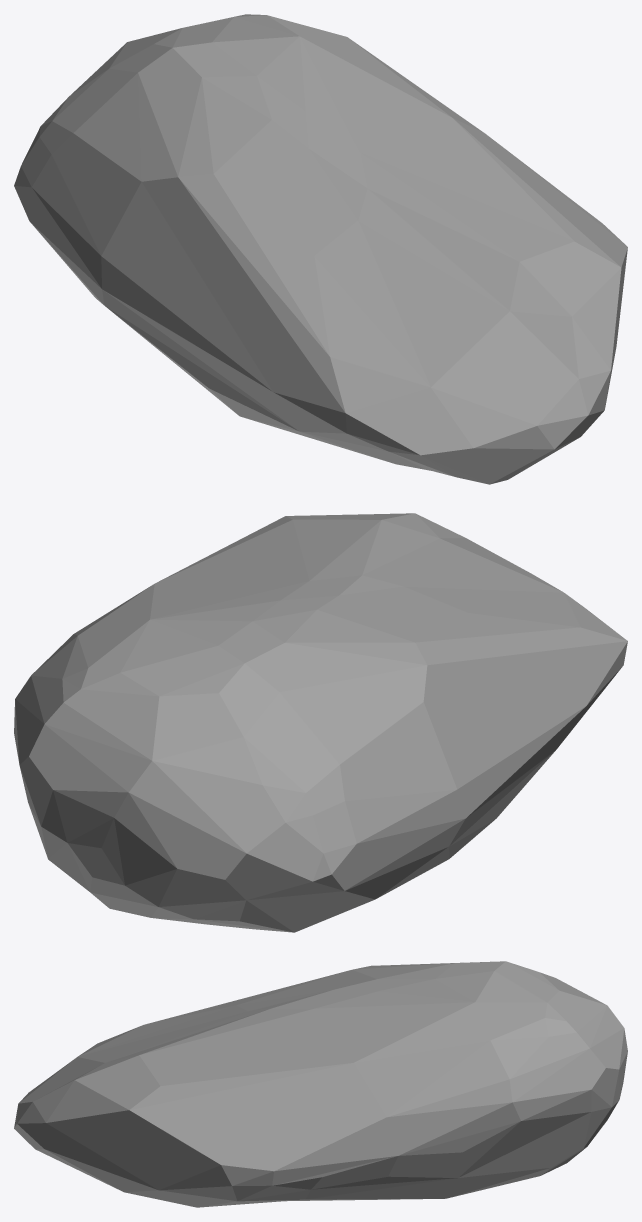
Rendered from Rock_018.glb.
The picture shows the model from 3 angles, top to bottom: view 1: azimuth 30°, elevation 25°; view 2: azimuth 150°, elevation 25°; view 3: azimuth 270°, elevation 25°; orthographic projection. The views are drawn at different scales.
Parts seen in each view (by area): view 1: Rock_018; view 2: Rock_018; view 3: Rock_018.
Boxes of the visible parts, left/top/right/bottom form: Rock_018: left=14, top=14, right=627, bottom=484; Rock_018: left=14, top=513, right=627, bottom=932; Rock_018: left=14, top=961, right=627, bottom=1207.
Size of the model in its own units: 1.73 by 1.09 by 2.84.
Materials: 1 (1 with a texture image).
